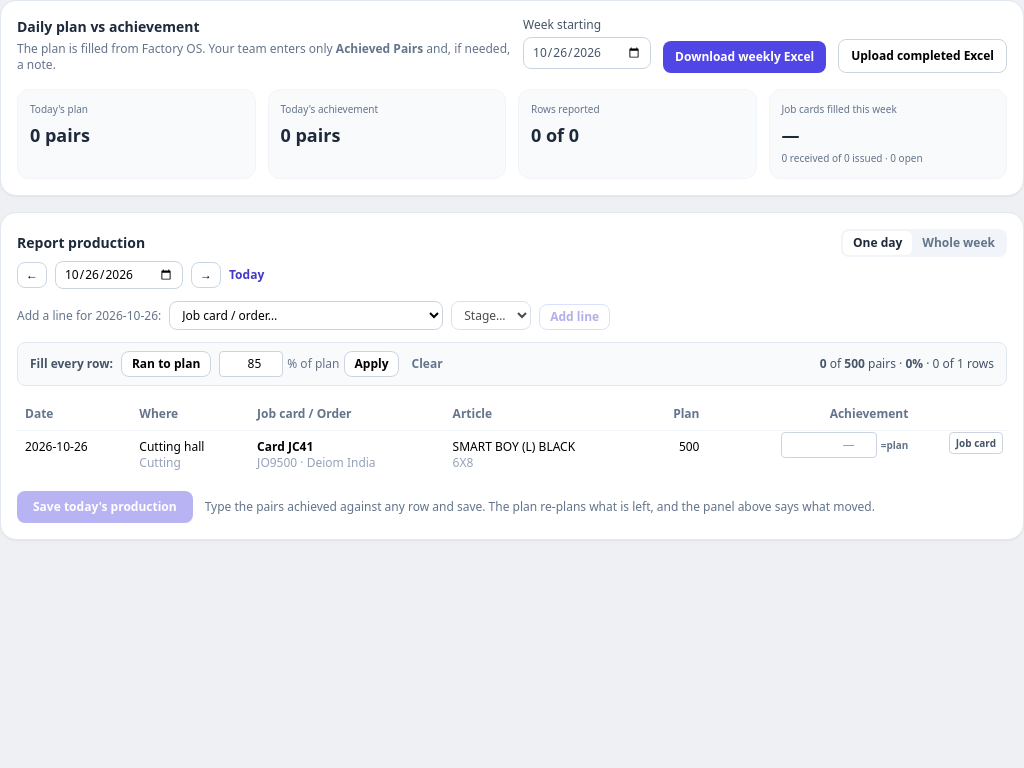
Test: refuses more rejected and repaired pairs than were made
Type "10" into the number field named "Pairs achieved for JC41". click: [829, 445]
box: [781,432,877,458]
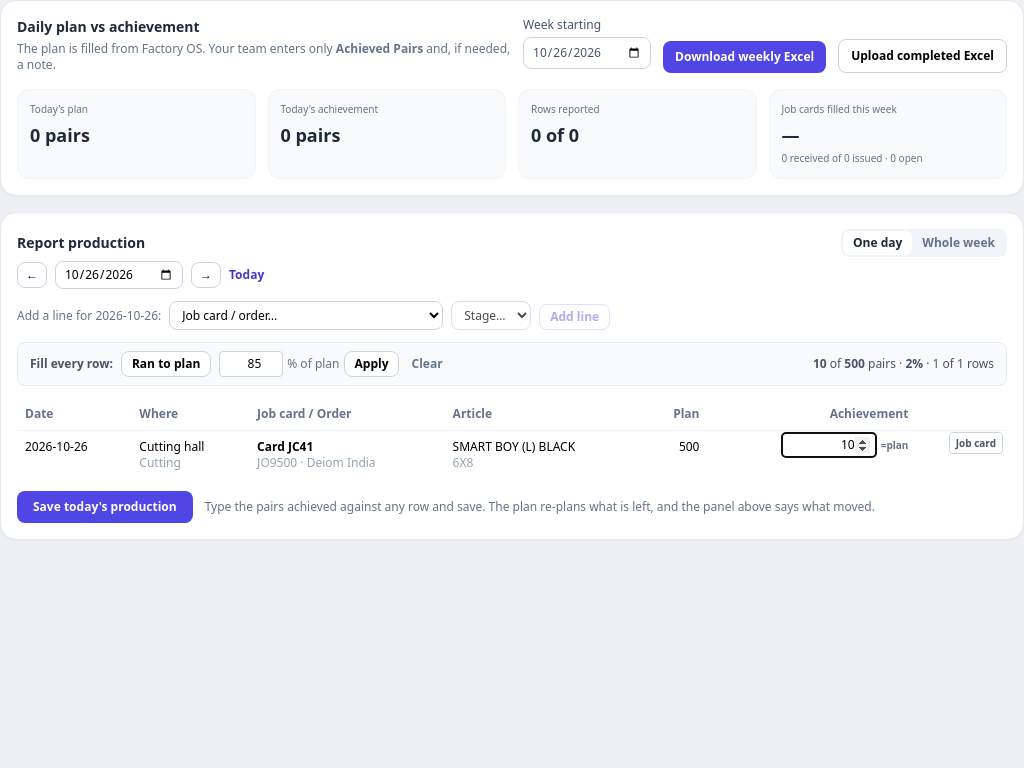
Click the button with aria-label "Job card details for JC41". click: [976, 443]
box: [949,432,1003,454]
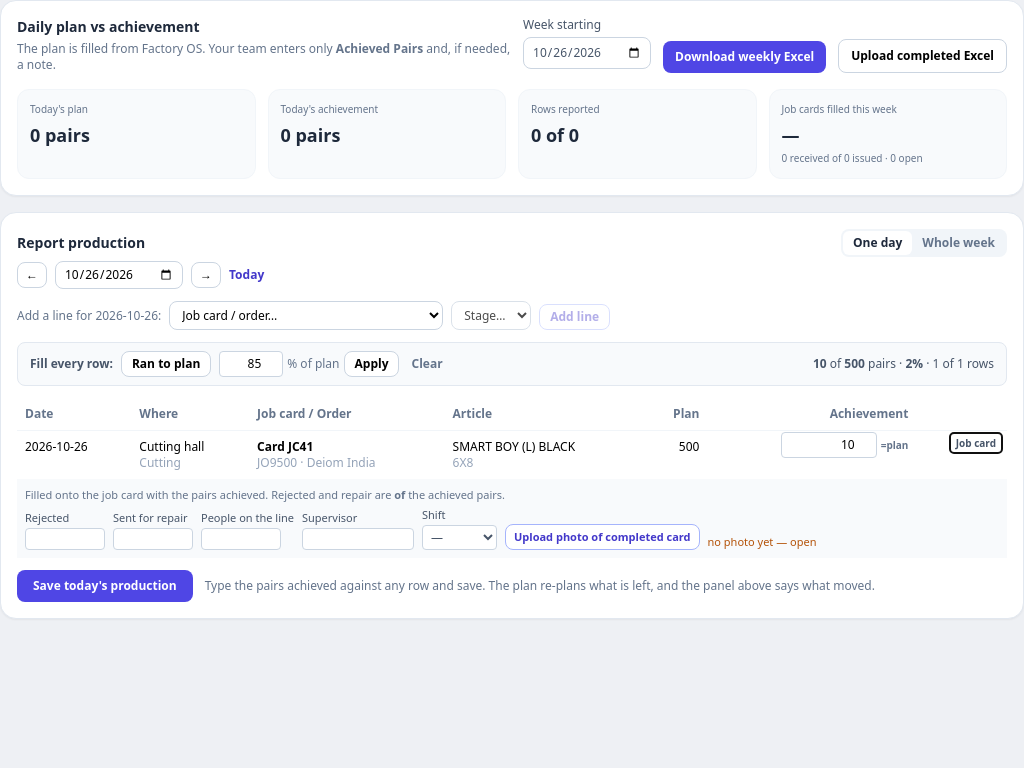
Type "11" into the number field named "Rejected for JC41". click: [65, 539]
box: [25,528,105,550]
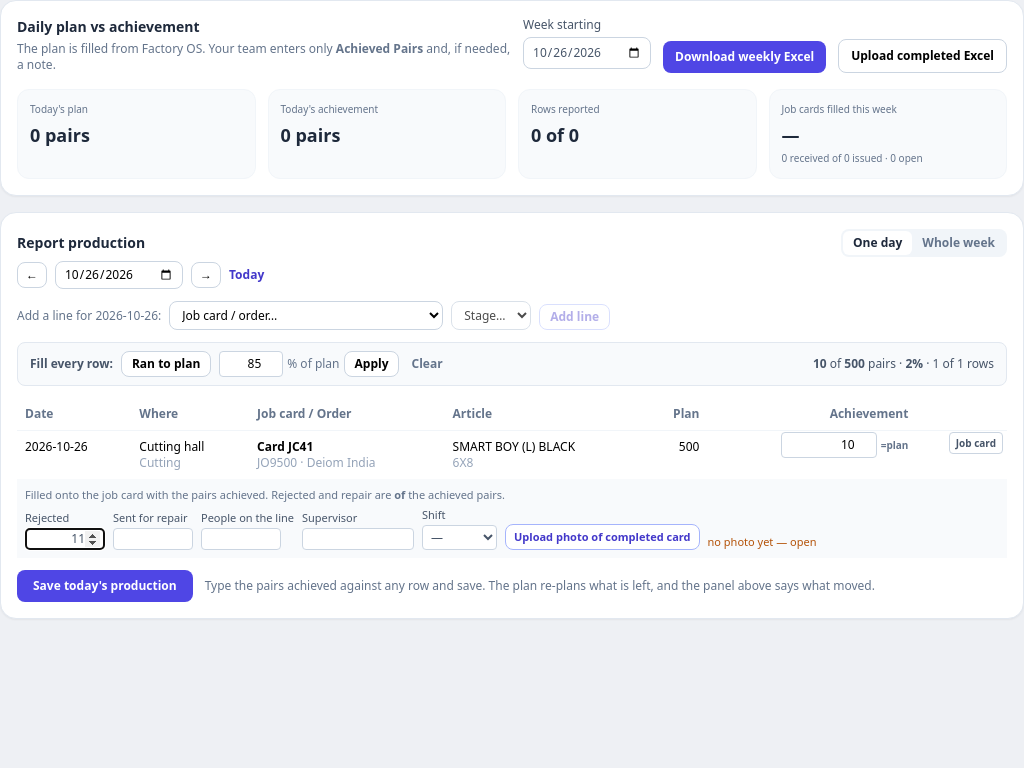
Click the button "Save today's production". click: [105, 586]
box: [17,570,193,602]
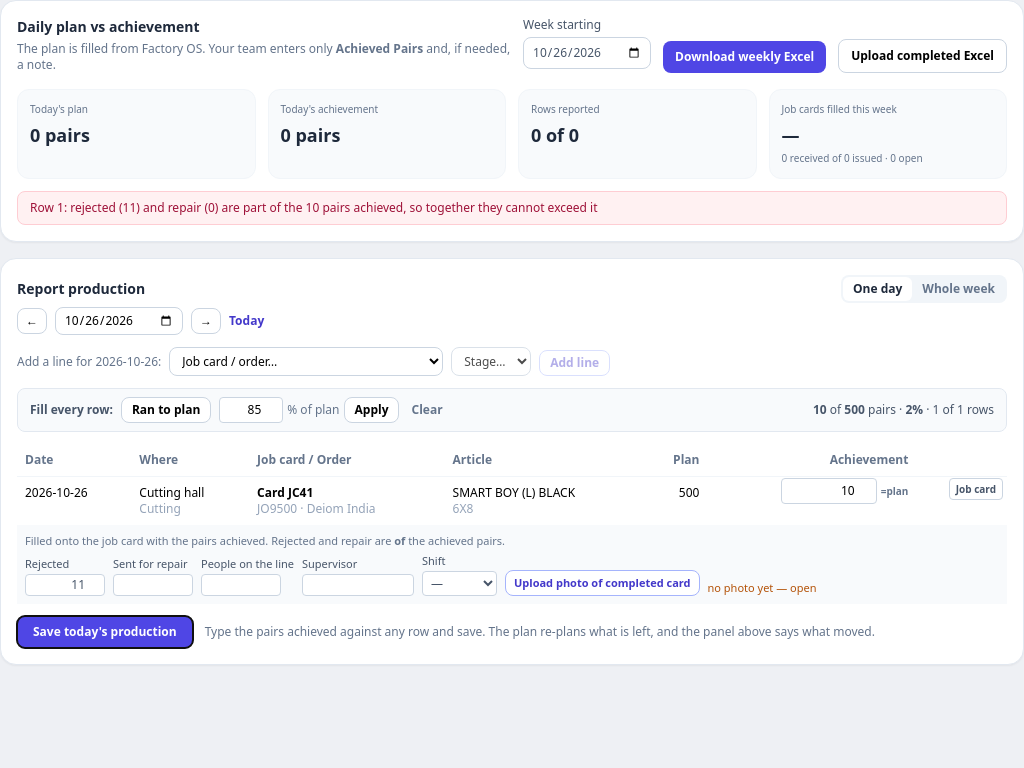
Expected: the message shows "cannot exceed", [30,199,598,216]
